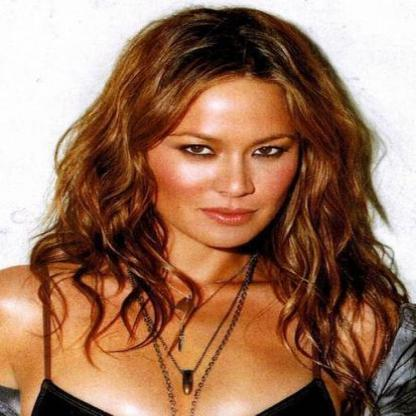long-hair: (18, 249, 396, 307)
